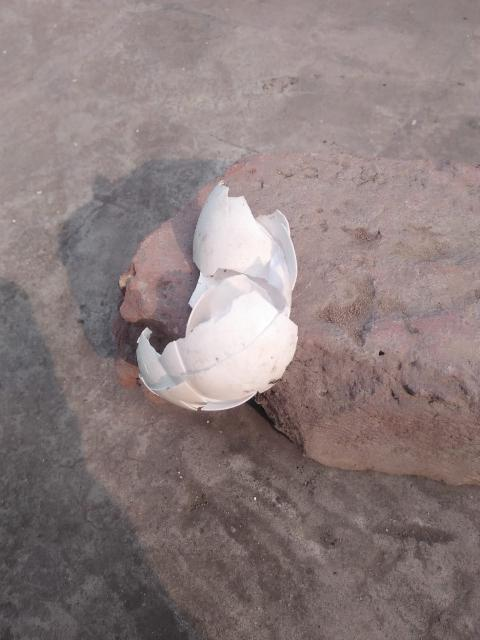Roto: (136, 273, 299, 412), (187, 180, 298, 315)
